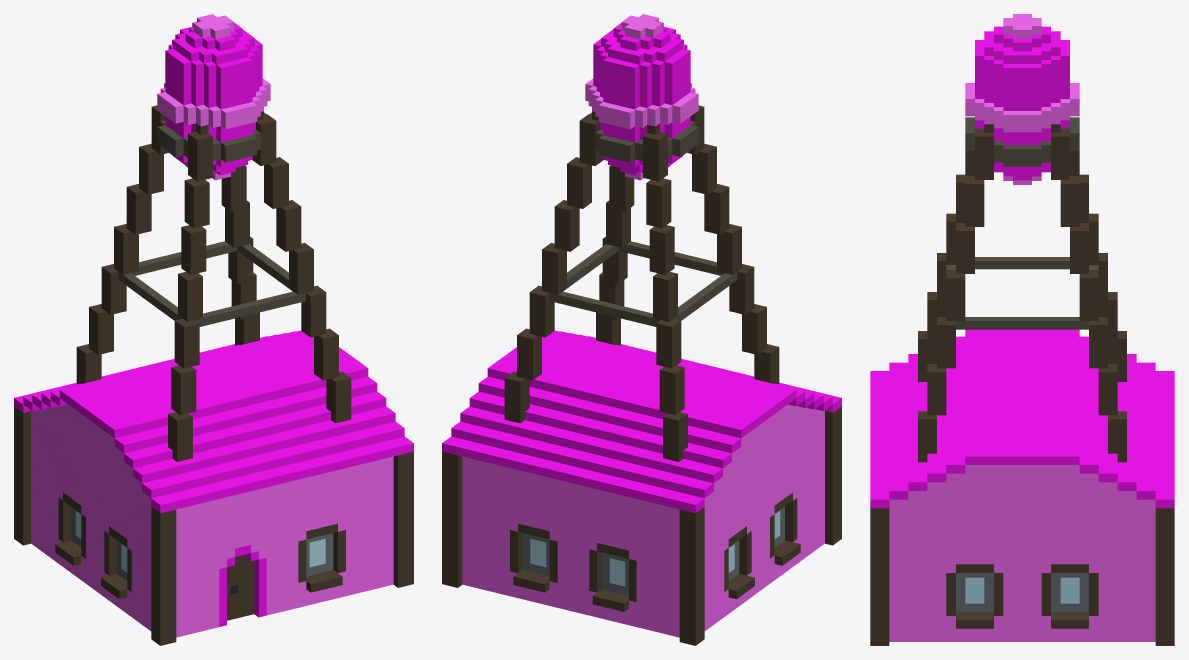
The model's file is tower.obj.
3 views of the same model, side by side, from view 1: azimuth 30°, elevation 25°; view 2: azimuth 150°, elevation 25°; view 3: azimuth 270°, elevation 25° (orthographic). The views are drawn at different scales.
Size of the model in its own units: 3.2 by 6.5 by 3.2.
1 material, 1 textured.
